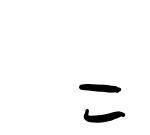eqv: (79, 84, 125, 124)
